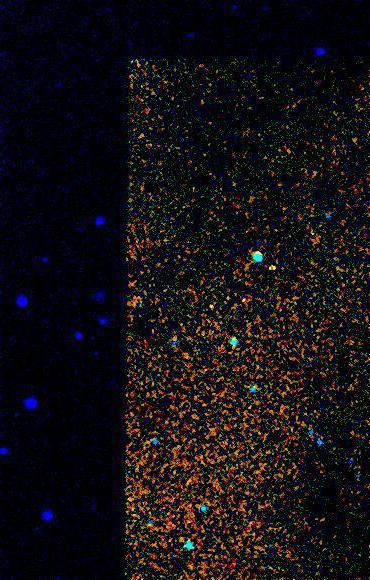star: (260, 249, 290, 279)
